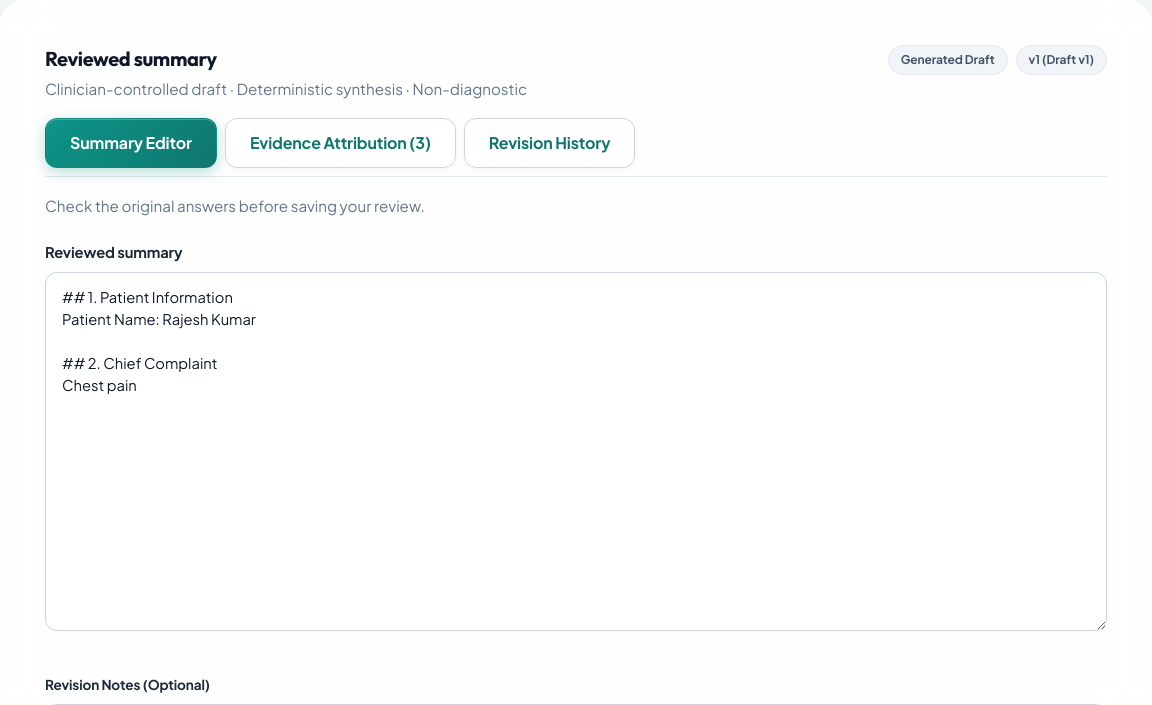
Test: Phase 8 SummaryWorkspace Component › switches to evidence attribution view and displays source links
Click the button "Evidence Attribution (3)" at (340, 143), box [225,118,456,168]
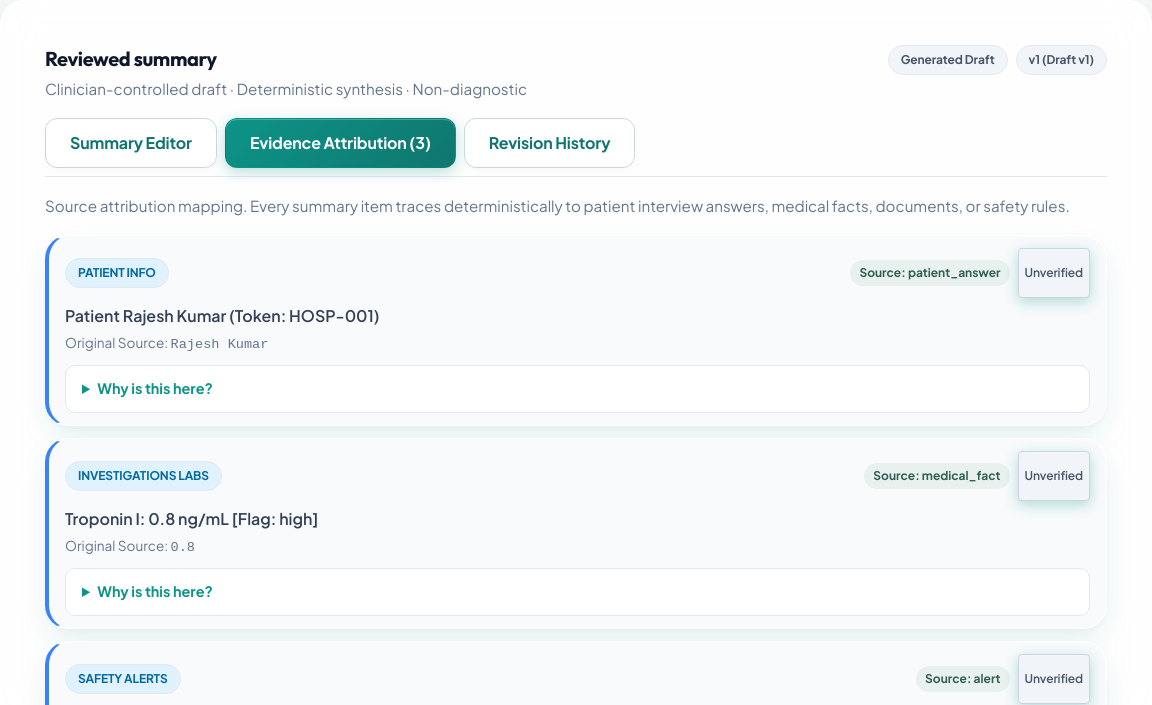
Now the text "Patient Rajesh Kumar (Token: HOSP-001)" is shown, box [65,305,379,326]
Now the text "Troponin I: 0.8 ng/mL [Flag: high]" is shown, box [65,508,318,529]
Now the text "Source: medical_fact" is shown, box [864,463,1010,489]
